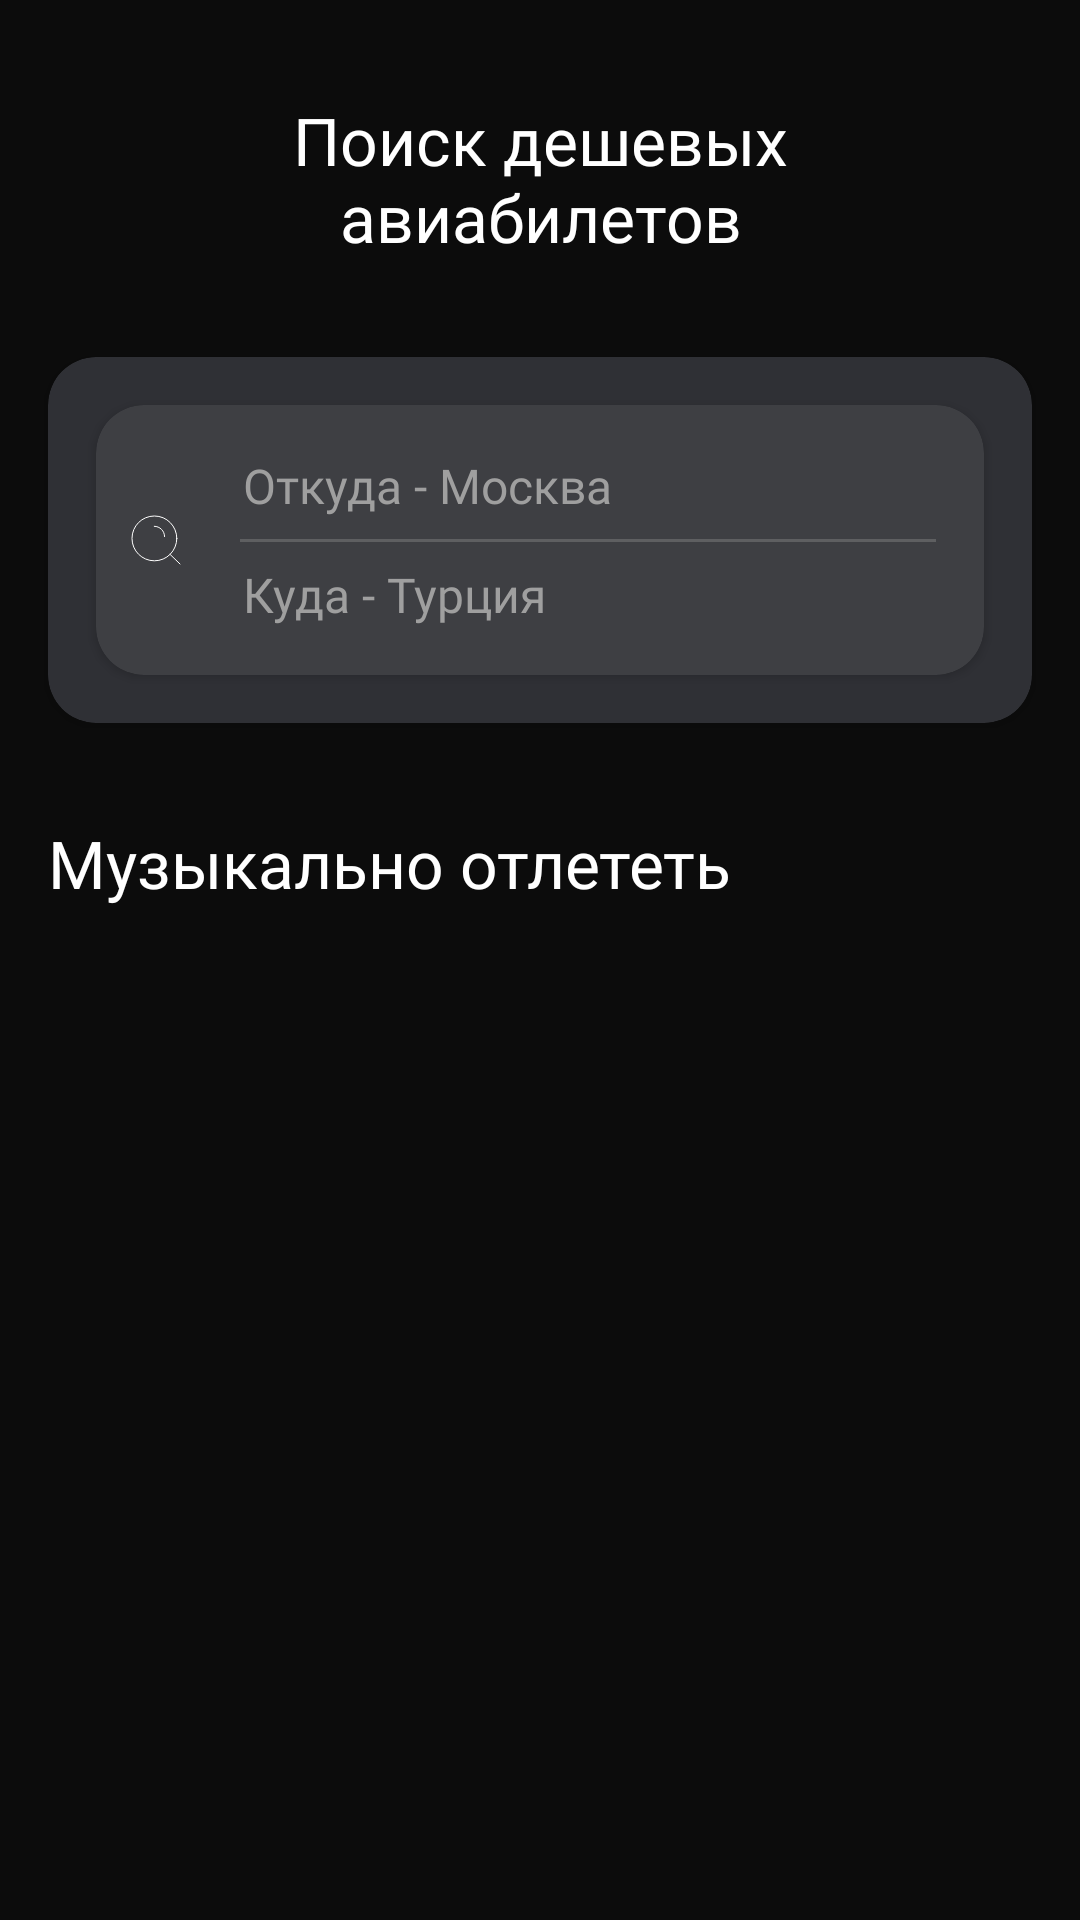

Where to tap for icons on this 1080w x 1920h app screen, as (x=x, y=y):
search: (x=156, y=540)
